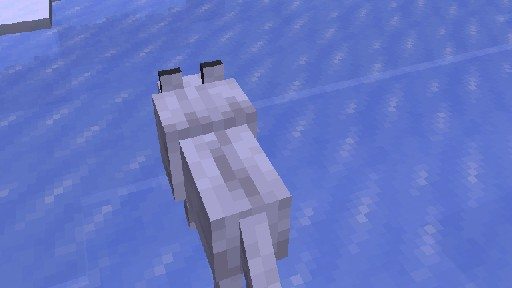wolf: (151, 58, 291, 288)
